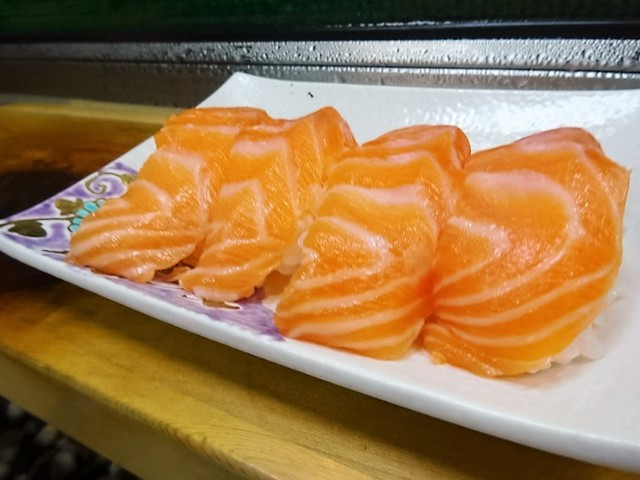salmon: (424, 111, 639, 400)
